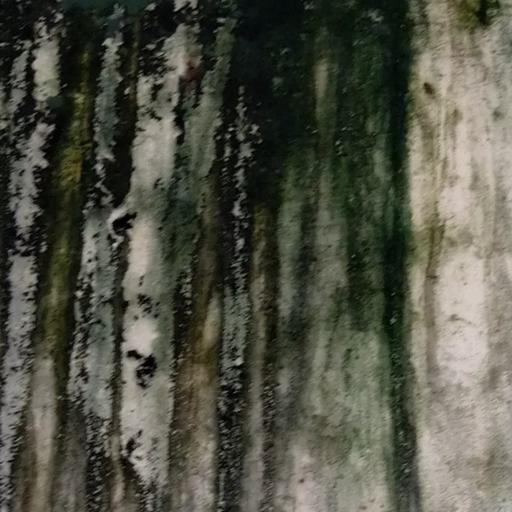algae: (6, 3, 446, 512)
